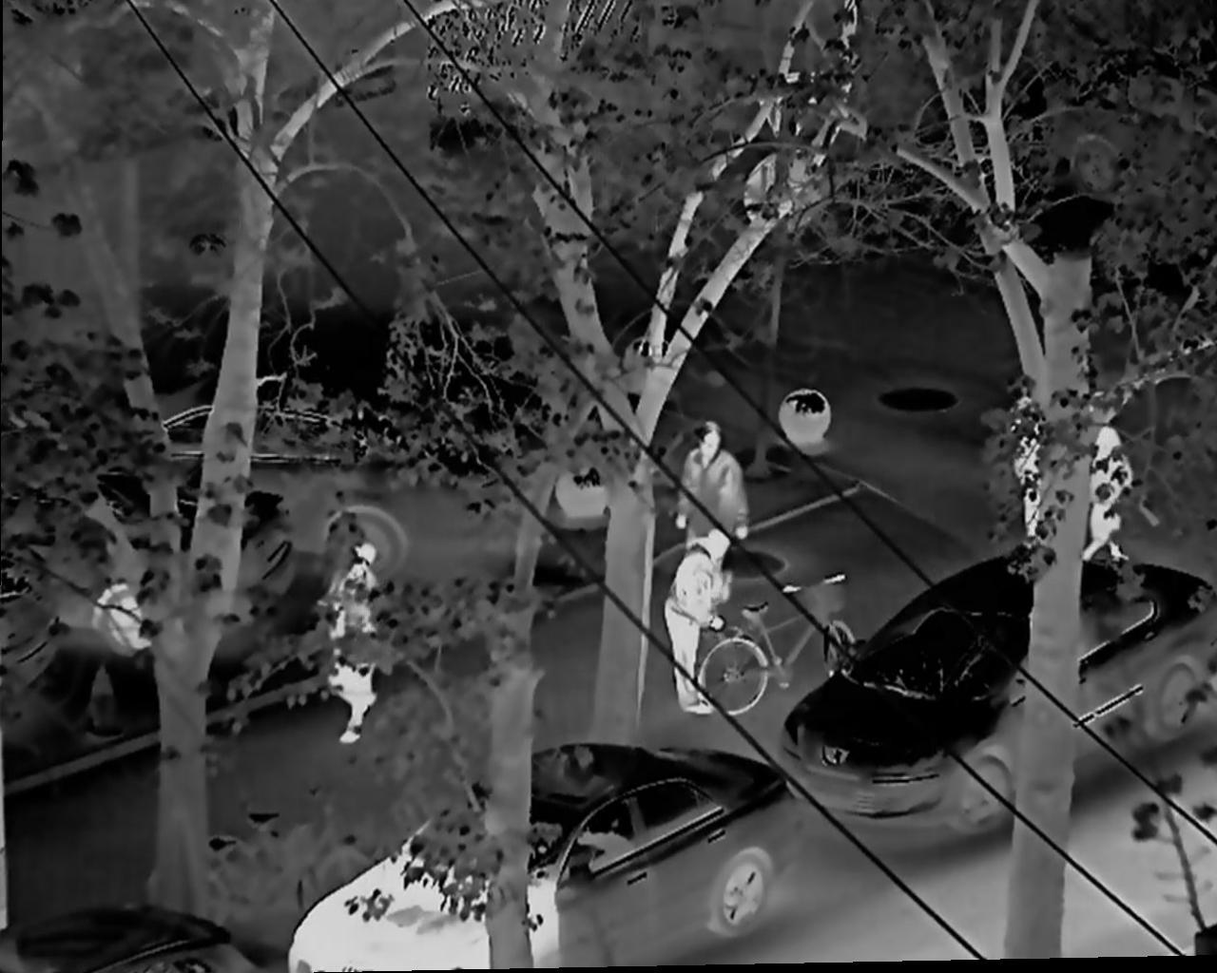person: (662, 530, 729, 715), (676, 420, 750, 539), (1089, 429, 1128, 563)
